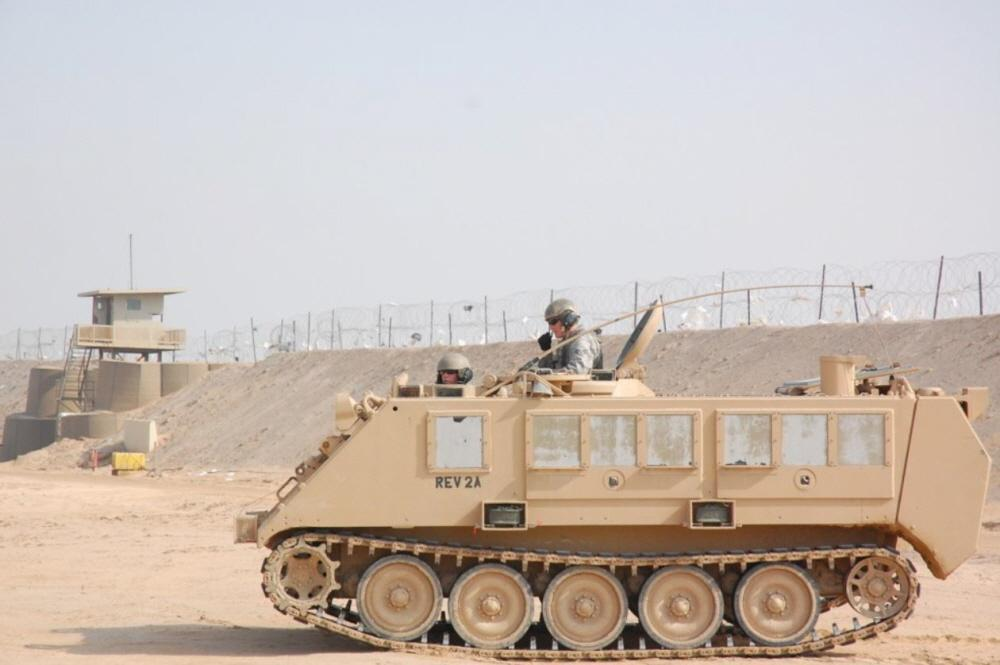MIL_IFV: (233, 282, 992, 658)
